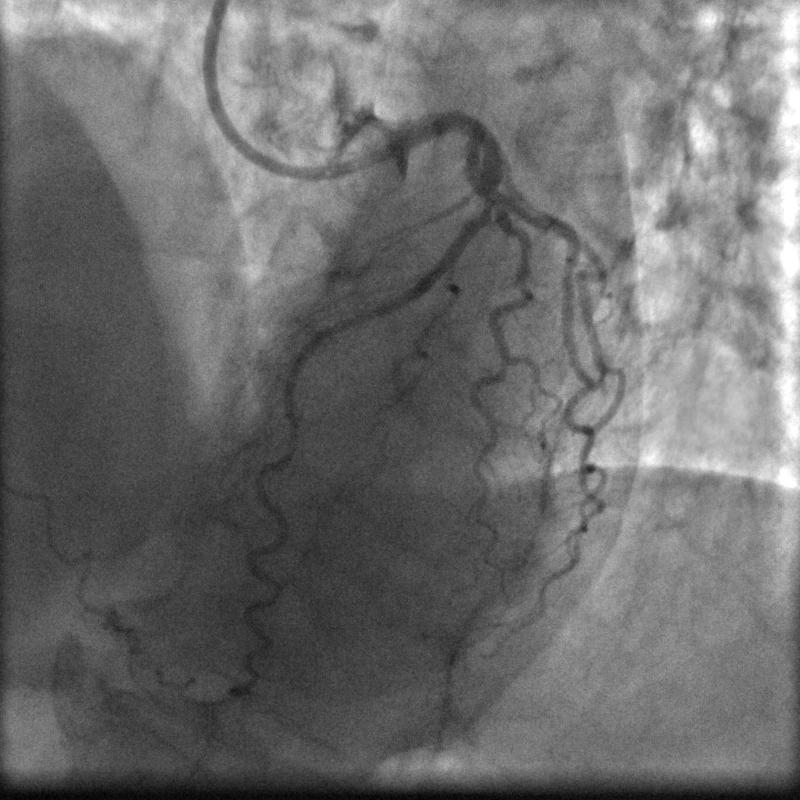Stenosis: (477, 190, 503, 220)
